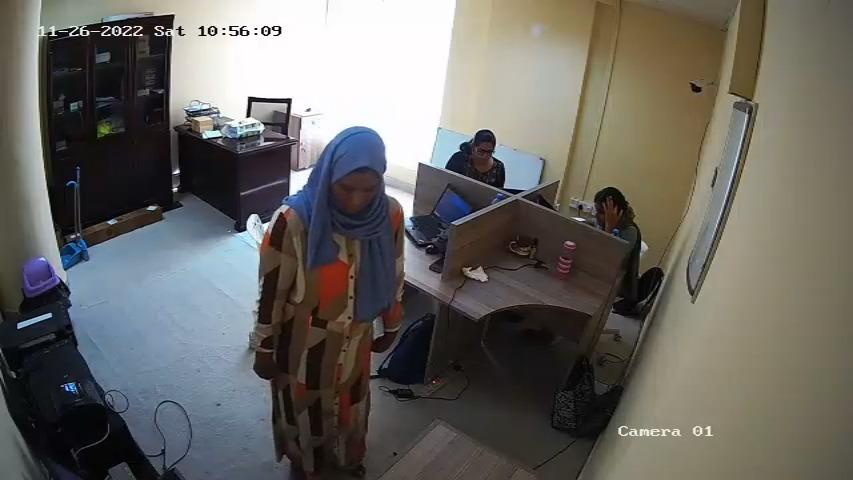no_apron: (283, 217, 371, 422)
